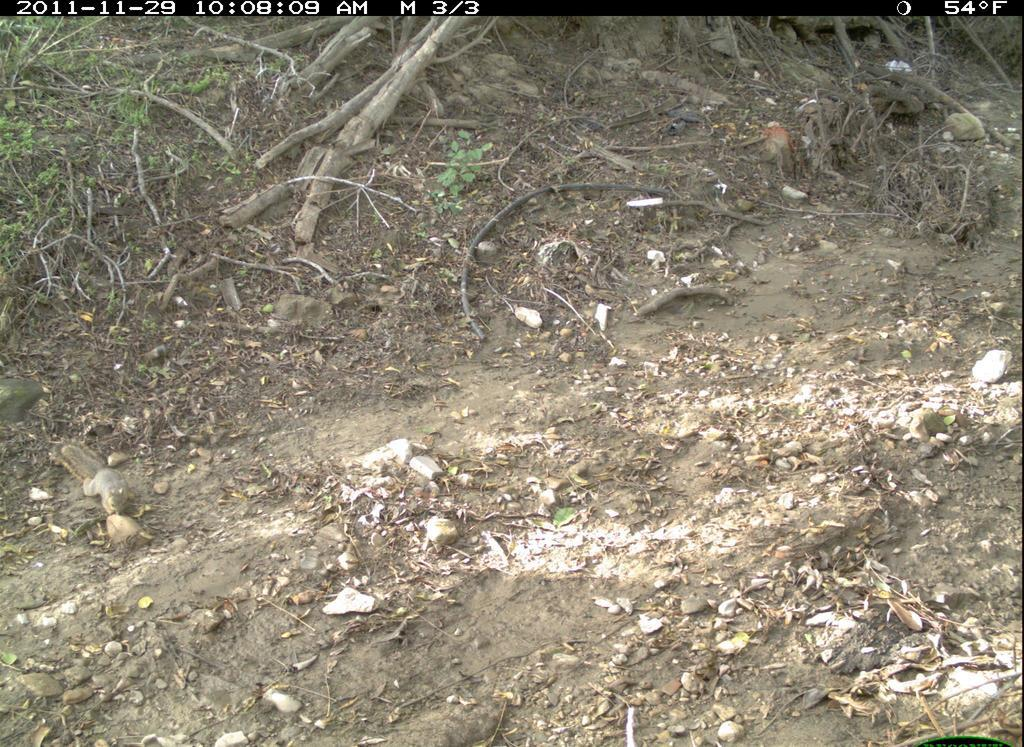squirrel: (50, 436, 140, 523)
